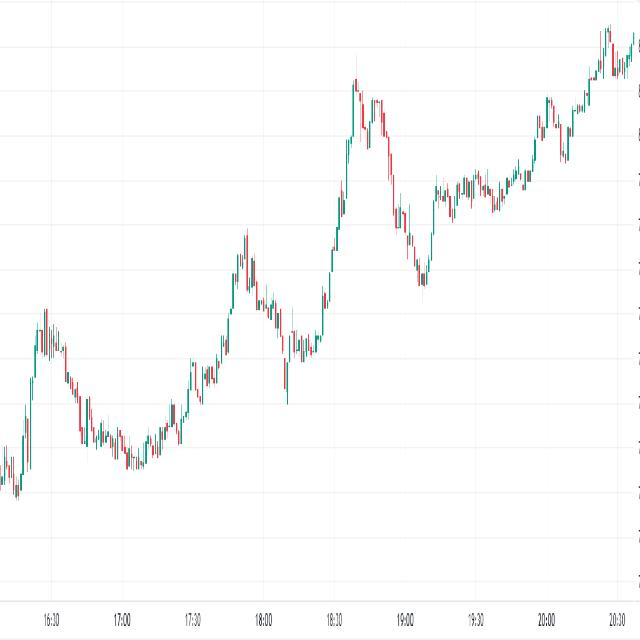Double-Top: (337, 70, 399, 198)
Rounding-Bottom: (44, 312, 238, 487)
